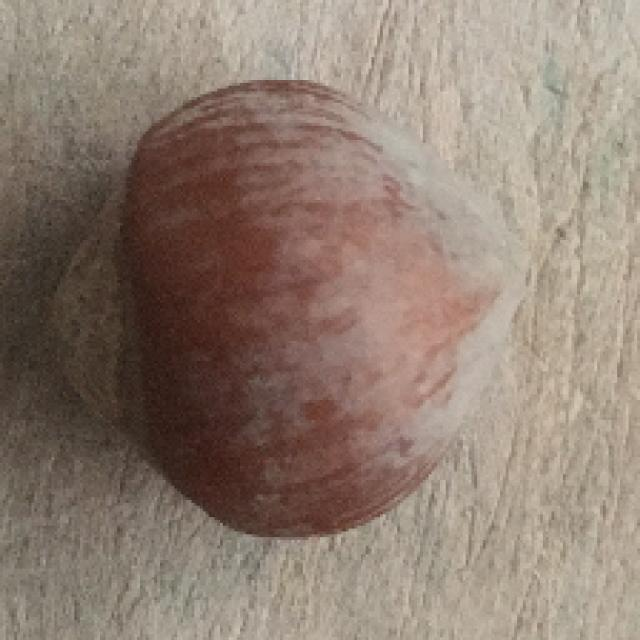QualityHazelnut: (43, 76, 542, 535)
